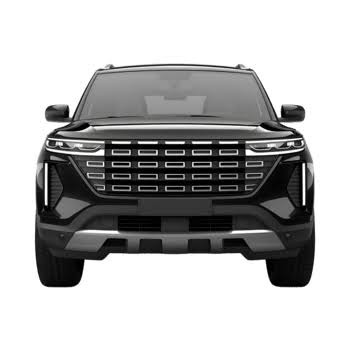car: (31, 64, 313, 282)
